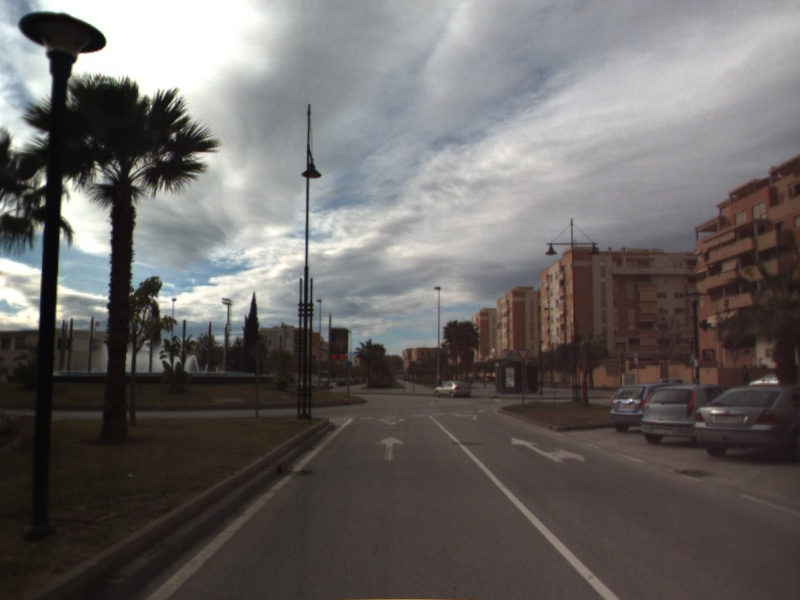STRAIGHT: (375, 434, 406, 462)
STRAIGHT_RIGHT: (510, 436, 587, 465)
